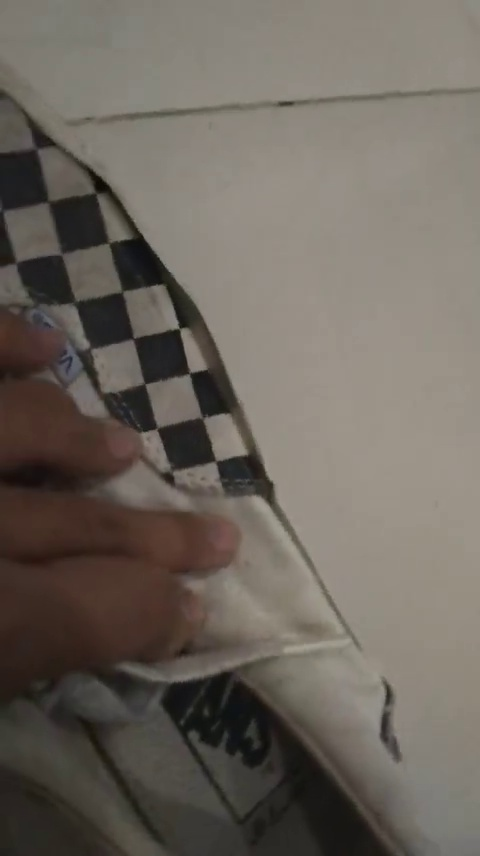bonding: (94, 171, 278, 481)
